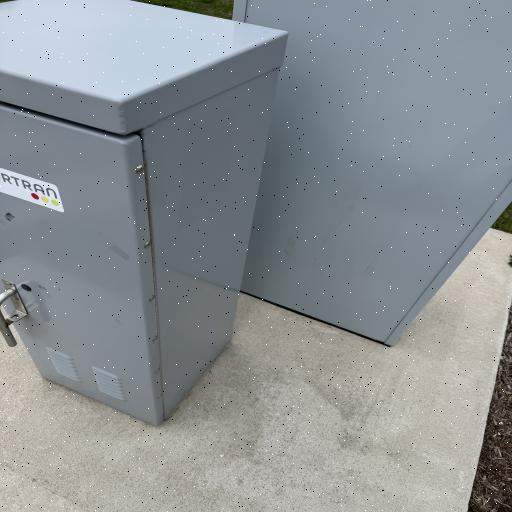Electrical Box: (0, 3, 288, 423)
